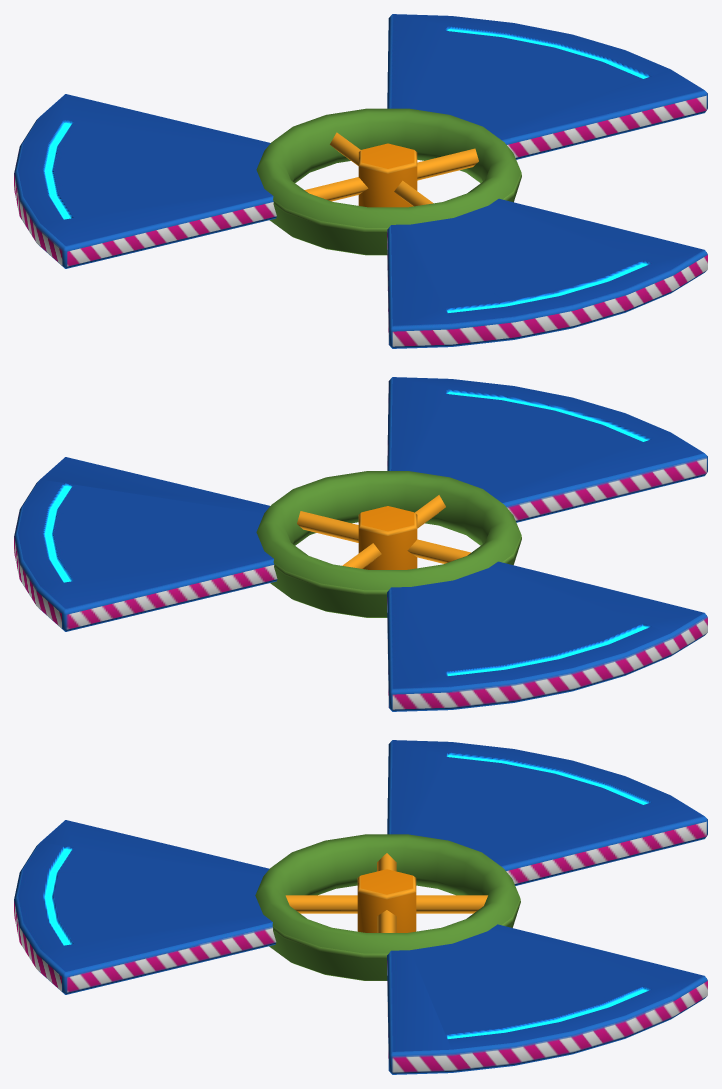
File: OBS0110061.fbx
The picture shows the model from 3 angles, top to bottom: view 1: azimuth 30°, elevation 25°; view 2: azimuth 150°, elevation 25°; view 3: azimuth 270°, elevation 25°; orthographic projection.
Parts seen in each view (by area): view 1: smOBS0110061; view 2: smOBS0110061; view 3: smOBS0110061.
Part boxes in pixels (x1,y1,x2,y2): smOBS0110061: (14,14,707,348); smOBS0110061: (14,377,707,711); smOBS0110061: (14,740,707,1074).
Size of the model in its own units: 1114 by 89.97 by 1036.
Materials: 2 (2 with a texture image).
